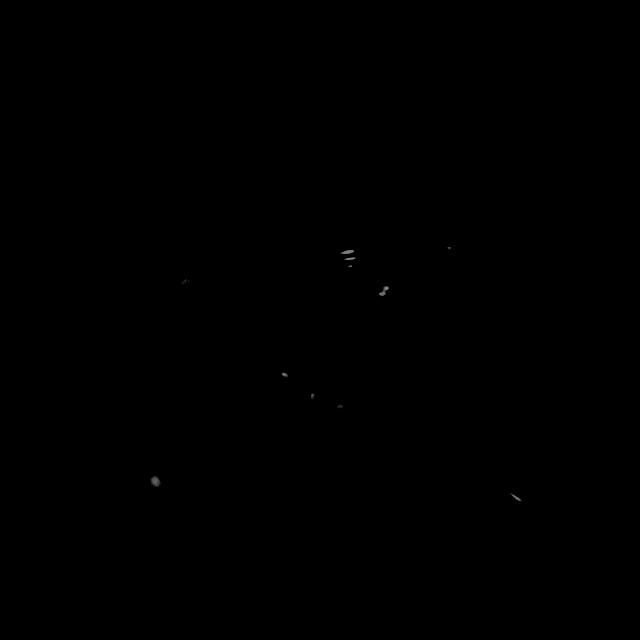Motorbike: (140, 202, 640, 530)
